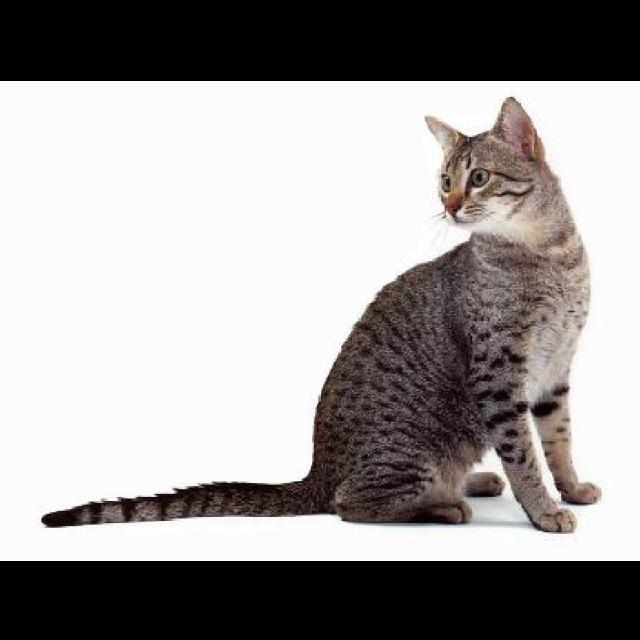unauthorized: (39, 94, 602, 532)
